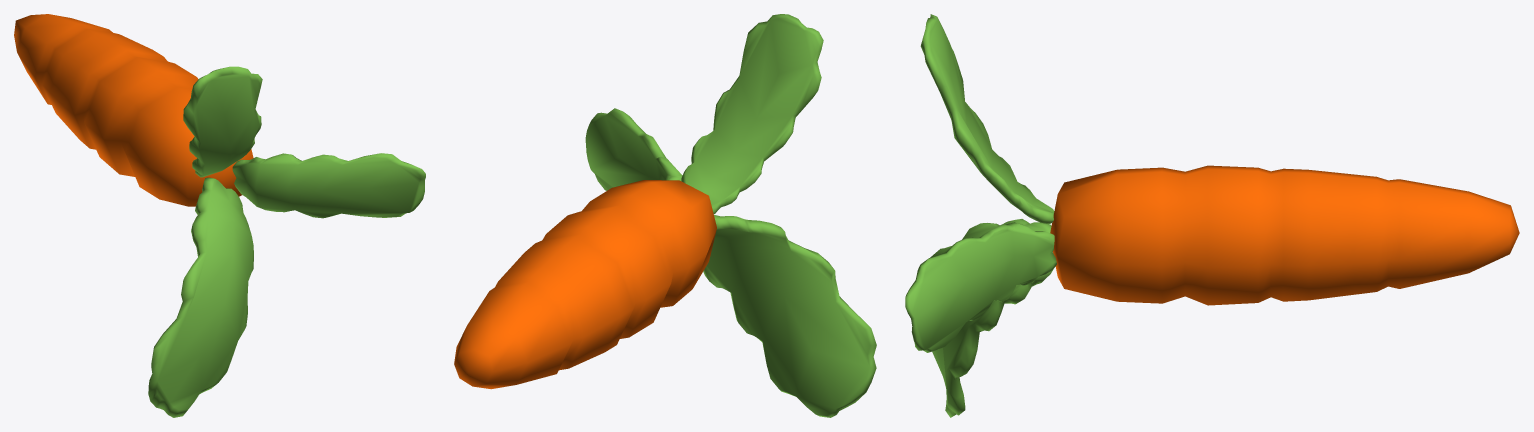
Rendered from carrot.glb.
3 renders of one model, left to right at view 1: azimuth 30°, elevation 25°; view 2: azimuth 150°, elevation 25°; view 3: azimuth 270°, elevation 25°, orthographic. The views are drawn at different scales.
Parts seen in each view (by area): view 1: carrot; view 2: carrot; view 3: carrot.
Boxes of the visible parts, box(x1,y1,x2,y2) form: carrot: box(14, 14, 425, 417); carrot: box(454, 14, 876, 417); carrot: box(905, 14, 1519, 417).
Size of the model in its own units: 2.39 by 2.95 by 3.92.
